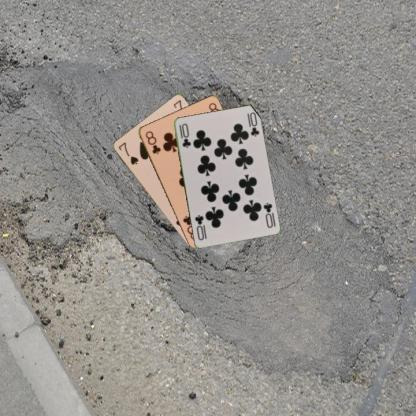10c: (176, 121, 192, 149), (260, 200, 274, 229)
7s: (116, 139, 139, 166)
8c: (142, 128, 161, 156)
